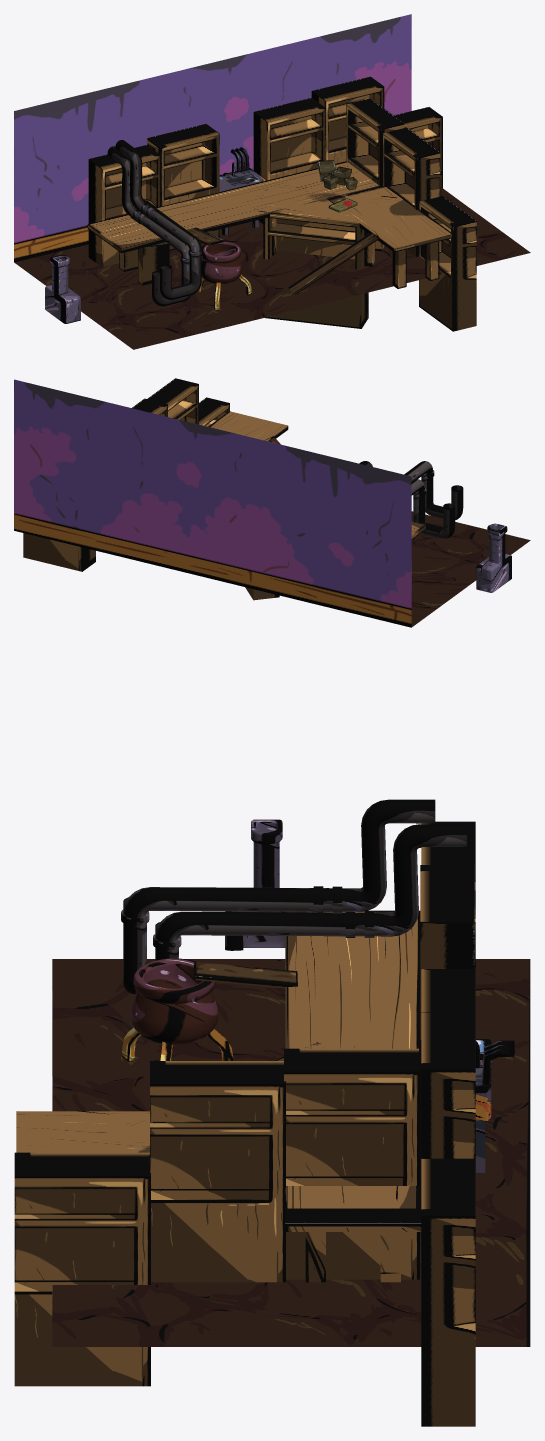
Rendered from Environment_04_Kitchen.fbx.
The picture shows the model from 3 angles, top to bottom: view 1: azimuth 30°, elevation 25°; view 2: azimuth 150°, elevation 25°; view 3: azimuth 270°, elevation 25°; orthographic projection. The views are drawn at different scales.
Visible parts, largest first — view 1: OBJ_Background, OBJ_Left_table, OBJ_Right_cabinet__6_, OBJ_Left_cabinet__1_, OBJ_Right_table, OBJ_Right_cabinet, OBJ_Left_cabinet, OBJ_Right_cabinet__1_, OBJ_Right_cabinet__5_, OBJ_Right_cabinet__4_, OBJ_Right_Pipe__1_, OBJ_Right_cabinet__2_ (+8 smaller); view 2: OBJ_Background, OBJ_Right_cabinet__3_, OBJ_Furnace, OBJ_Right_cabinet__5_, OBJ_Right_table, OBJ_Right_Pipe__1_, OBJ_Right_Pipe, OBJ_Right_cabinet__6_, OBJ_Right_cabinet__4_; view 3: OBJ_Background, OBJ_Right_cabinet__5_, OBJ_Right_cabinet__6_, OBJ_Left_table, OBJ_Right_cabinet__4_, OBJ_Right_cabinet__3_, OBJ_Right_Pipe__1_, OBJ_Right_Pipe, OBJ_Right_cabinet__2_, OBJ_Cauldron, OBJ_Left_cabinet, OBJ_Right_table (+5 smaller).
Boxes of the visible parts, x1,y1,x2,y2 form: OBJ_Background: (14,14,530,349); OBJ_Left_table: (87,161,441,285); OBJ_Right_cabinet__6_: (419,196,476,331); OBJ_Left_cabinet__1_: (263,213,368,328); OBJ_Right_table: (326,185,452,288); OBJ_Right_cabinet: (253,97,325,223); OBJ_Left_cabinet: (147,124,219,250); OBJ_Right_cabinet__1_: (88,145,160,267); OBJ_Right_cabinet__5_: (383,127,440,256); OBJ_Right_cabinet__4_: (346,98,403,186); OBJ_Right_Pipe__1_: (115,140,202,299); OBJ_Right_cabinet__2_: (311,76,384,163); OBJ_Background: (14,379,530,627); OBJ_Right_cabinet__3_: (23,533,95,571); OBJ_Furnace: (476,523,511,592); OBJ_Right_cabinet__5_: (147,378,198,424); OBJ_Right_table: (208,411,288,441); OBJ_Right_Pipe__1_: (359,461,463,519); OBJ_Right_Pipe: (411,479,455,538); OBJ_Right_cabinet__6_: (199,397,229,426); OBJ_Right_cabinet__4_: (132,398,167,416); OBJ_Background: (52,959,530,1346); OBJ_Right_cabinet__5_: (150,1061,285,1282); OBJ_Right_cabinet__6_: (14,1152,150,1386); OBJ_Left_table: (285,910,421,1282); OBJ_Right_cabinet__4_: (284,1048,419,1279); OBJ_Right_cabinet__3_: (421,1158,475,1426); OBJ_Right_Pipe__1_: (121,799,435,994); OBJ_Right_Pipe: (153,824,466,960); OBJ_Right_cabinet__2_: (421,1012,475,1158); OBJ_Cauldron: (122,958,233,1061); OBJ_Left_cabinet: (420,865,474,1039); OBJ_Right_table: (16,1111,149,1152).
Size of the model in its own units: 971 by 456 by 506.
Materials: 14 (13 with a texture image).
